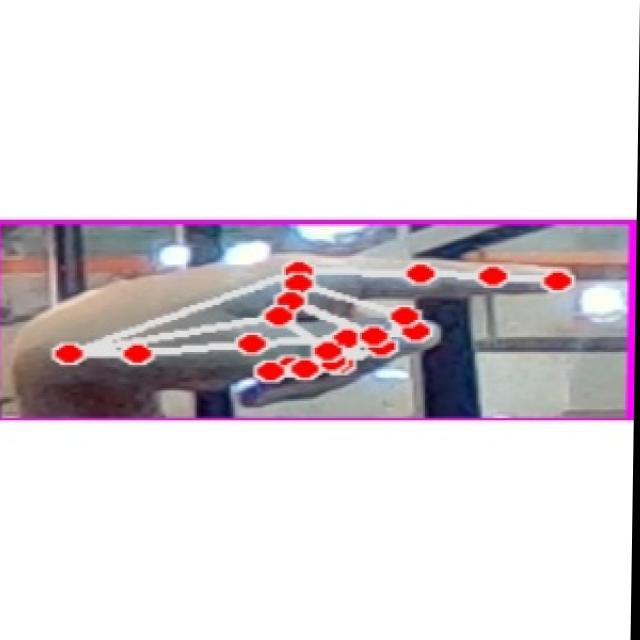G: (20, 242, 581, 410)
